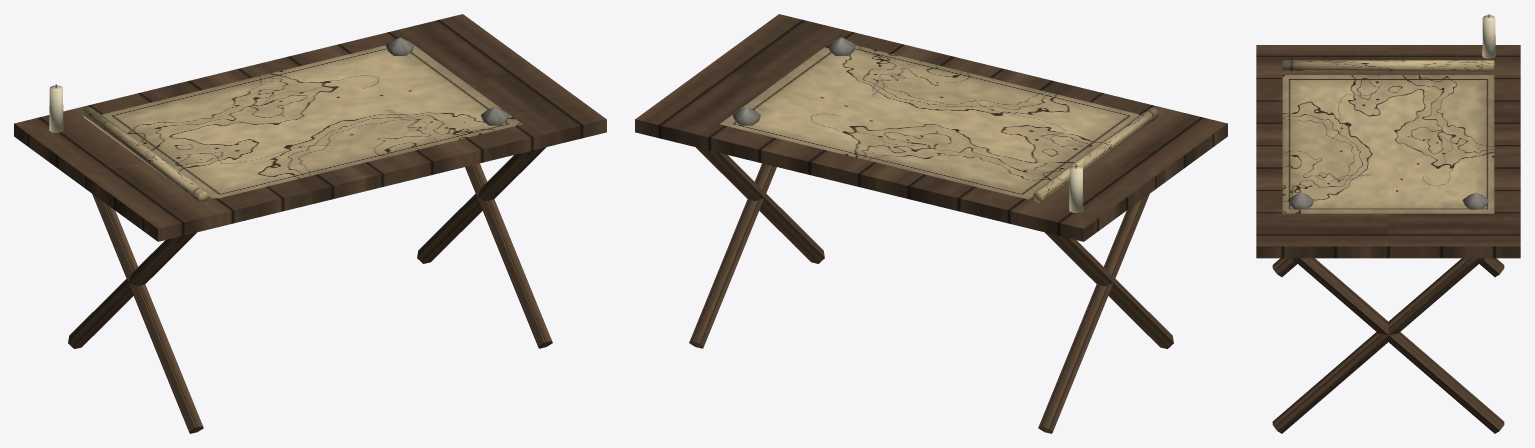
Rendered from Map_Table_1.gltf.
The picture shows the model from 3 angles, left to right: view 1: azimuth 30°, elevation 25°; view 2: azimuth 150°, elevation 25°; view 3: azimuth 270°, elevation 25°; orthographic projection. The views are drawn at different scales.
Visible parts, largest first — view 1: Map_Table_1; view 2: Map_Table_1; view 3: Map_Table_1.
Boxes of the visible parts, x1=… form: Map_Table_1: x1=14, y1=14, x2=606, y2=433; Map_Table_1: x1=635, y1=14, x2=1227, y2=433; Map_Table_1: x1=1256, y1=14, x2=1520, y2=433.
Bounding box in the file's own units: 1.8 × 1.04 × 1.
Materials: 5 (5 with a texture image).
